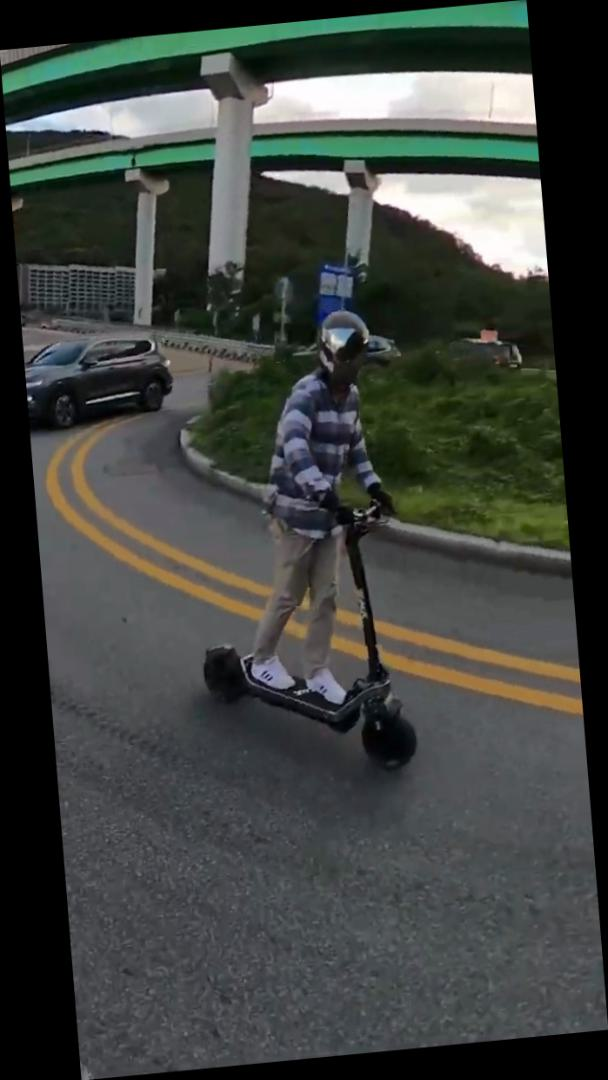helmet: (172, 300, 424, 791)
